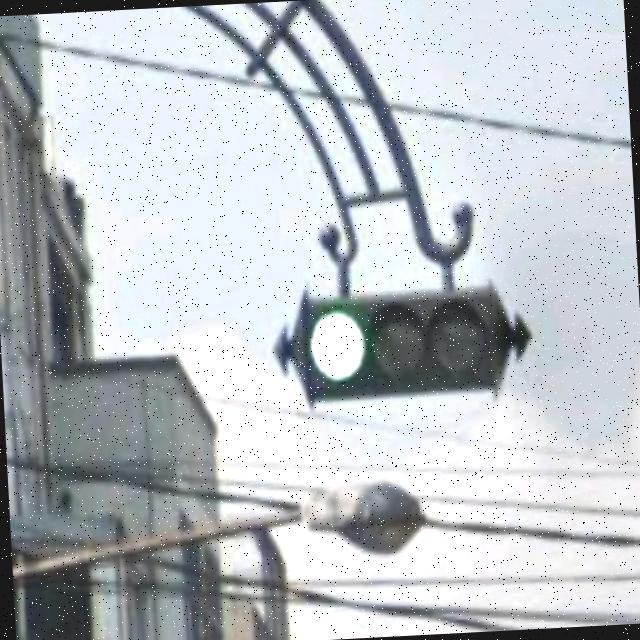Zielone swiatlo: (304, 282, 518, 401)
